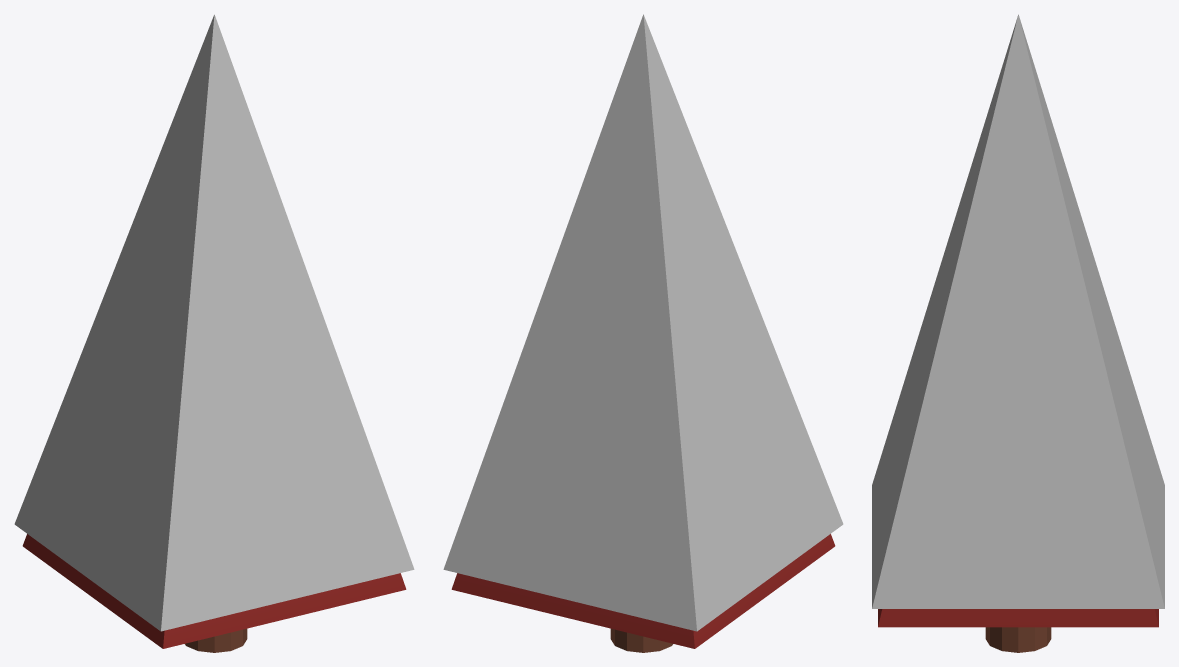
The model's file is Tree_36_winter_gradient_red_vc.fbx.
3 views of the same model, side by side, from view 1: azimuth 30°, elevation 25°; view 2: azimuth 150°, elevation 25°; view 3: azimuth 270°, elevation 25° (orthographic).
Parts seen in each view (by area): view 1: Tree_36_winter_gradient_red_vc; view 2: Tree_36_winter_gradient_red_vc; view 3: Tree_36_winter_gradient_red_vc.
Boxes of the visible parts, x1,y1,x2,y2 form: Tree_36_winter_gradient_red_vc: (14,14,414,652); Tree_36_winter_gradient_red_vc: (443,14,843,652); Tree_36_winter_gradient_red_vc: (872,14,1164,652).
Size of the model in its own units: 71.97 by 169 by 71.97.
